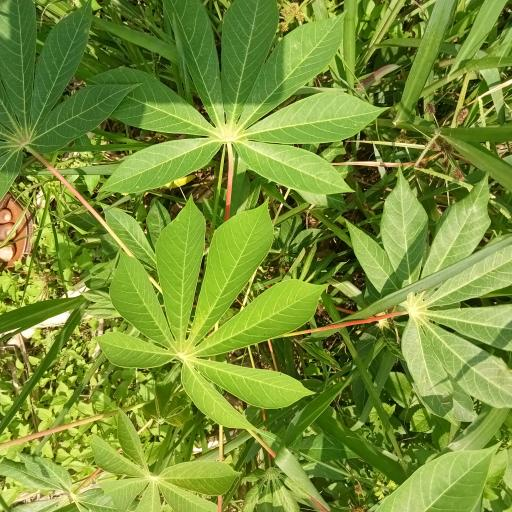Cassava_Healthy: (96, 1, 366, 195), (102, 199, 328, 430), (350, 181, 512, 423)
